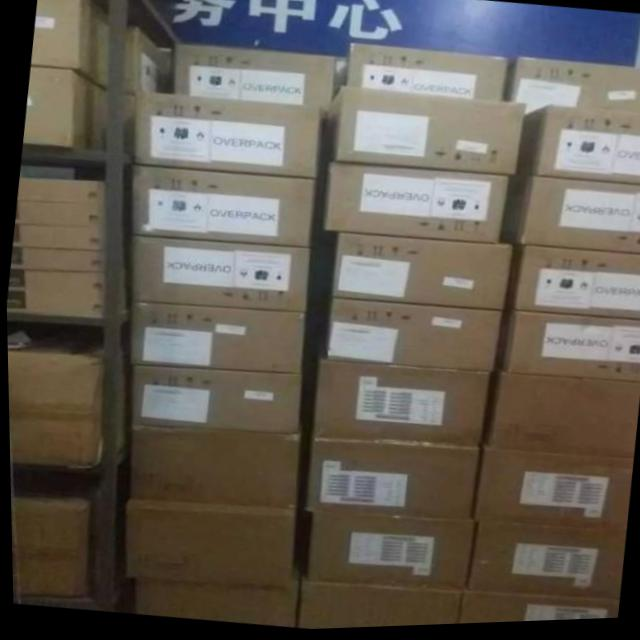box: (328, 90, 524, 178), (132, 91, 320, 181), (310, 358, 489, 451), (324, 164, 511, 247), (132, 165, 314, 249), (121, 499, 293, 587), (301, 438, 477, 523), (132, 232, 309, 315), (477, 374, 639, 463), (330, 233, 509, 313), (127, 427, 296, 510), (5, 177, 104, 318), (324, 297, 500, 375), (469, 450, 631, 534), (304, 514, 474, 593), (130, 301, 304, 376), (464, 526, 624, 605), (130, 363, 298, 435), (498, 178, 640, 258), (6, 347, 98, 467), (491, 313, 640, 387), (170, 46, 332, 112), (500, 248, 640, 324), (514, 110, 640, 189), (344, 46, 507, 103), (10, 495, 91, 599), (130, 578, 296, 628), (294, 582, 462, 631), (500, 61, 640, 118), (23, 66, 105, 151), (30, 0, 108, 85), (456, 594, 615, 627), (123, 29, 172, 95)
